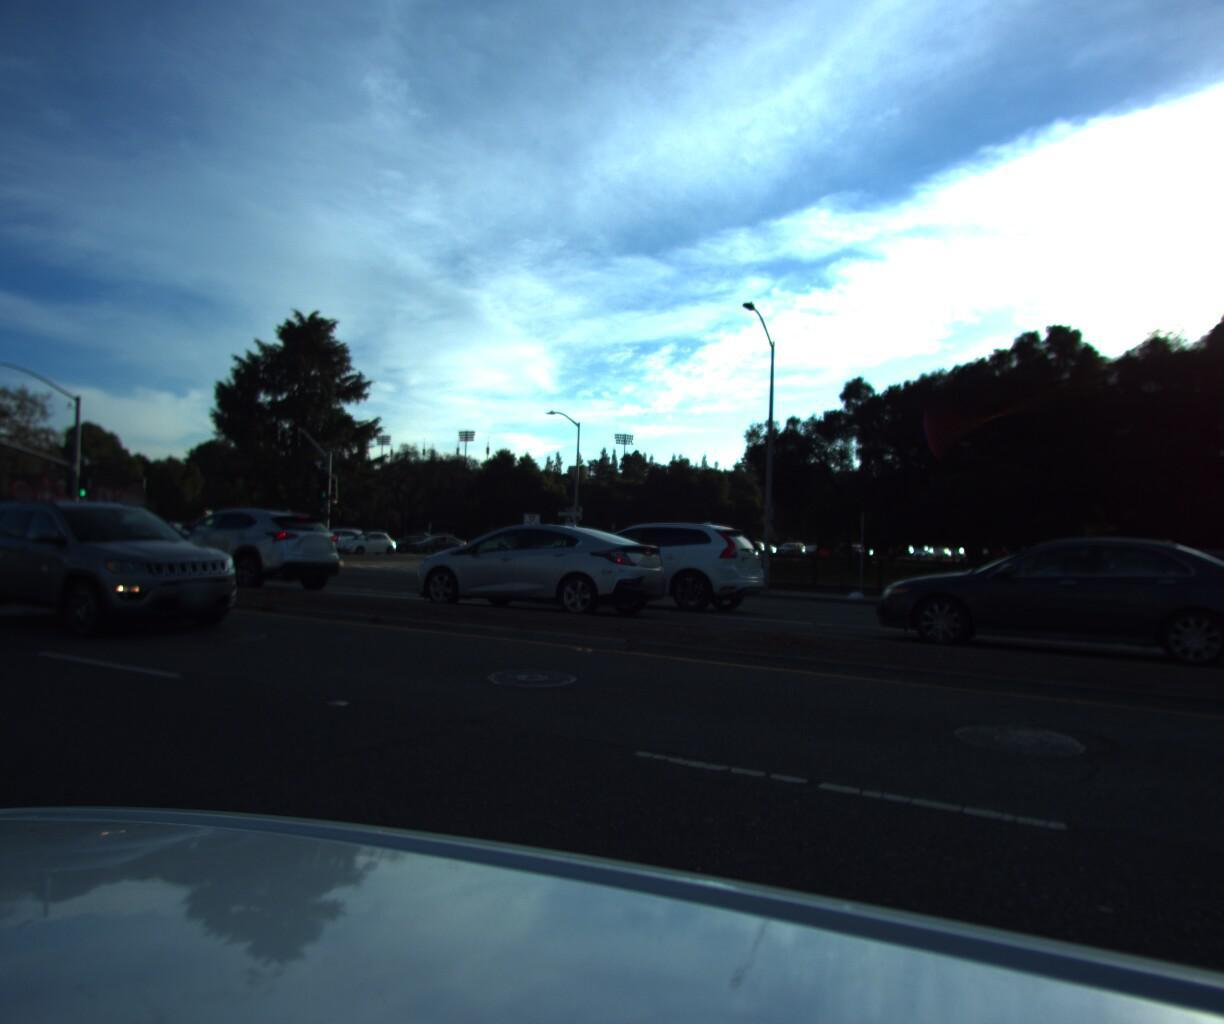car: (850, 519, 1224, 692), (0, 492, 266, 650), (385, 508, 677, 628), (532, 515, 775, 615), (123, 495, 348, 598), (1050, 537, 1224, 633), (0, 502, 110, 575), (1195, 559, 1224, 651), (287, 519, 365, 551), (399, 526, 469, 554), (335, 523, 408, 549), (461, 524, 533, 550), (372, 525, 441, 548)
